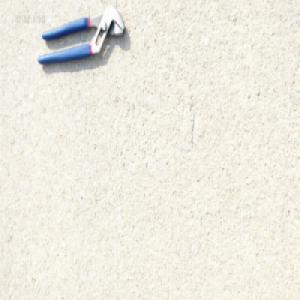Pliers: (36, 5, 125, 65)
